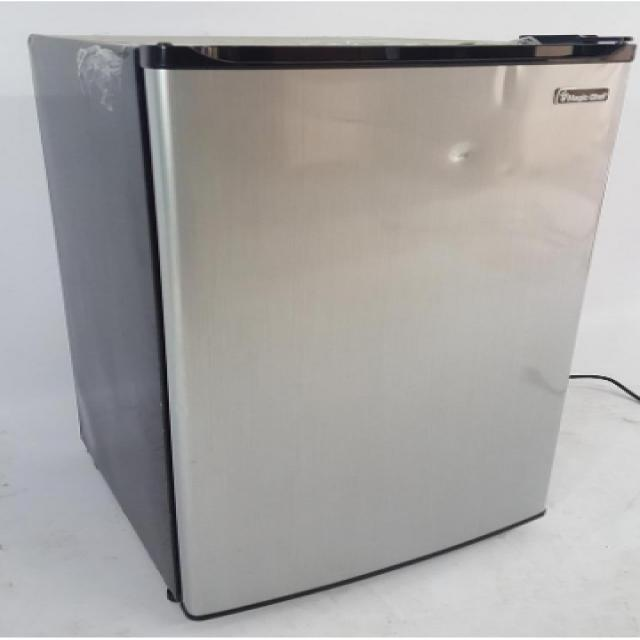dents: (443, 136, 509, 178)
